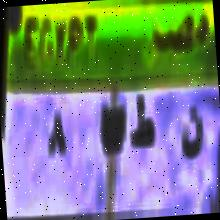8: (46, 105, 68, 168)
Taa: (128, 92, 156, 162)
noon: (178, 101, 208, 172)
